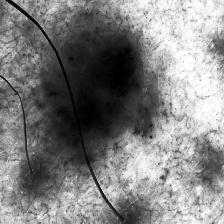Benign Marking or Mole: (46, 34, 148, 157)
